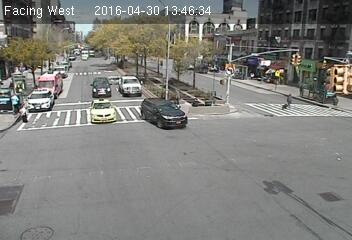neg: (250, 157, 301, 226), (23, 166, 66, 223), (79, 7, 116, 58), (148, 105, 175, 142), (13, 3, 40, 39), (50, 82, 72, 112), (73, 83, 92, 109), (29, 54, 45, 76), (108, 89, 122, 107), (166, 186, 179, 204), (59, 42, 71, 58)
pos: (280, 91, 300, 117), (6, 91, 24, 116), (16, 105, 31, 124)
